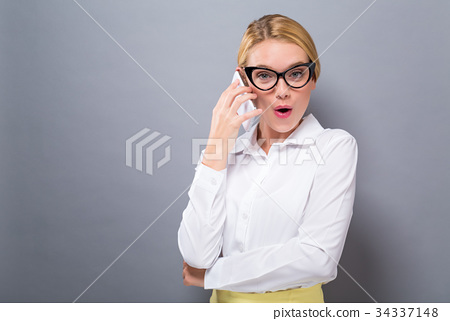phone: (217, 61, 258, 143)
talk: (205, 56, 309, 148)
